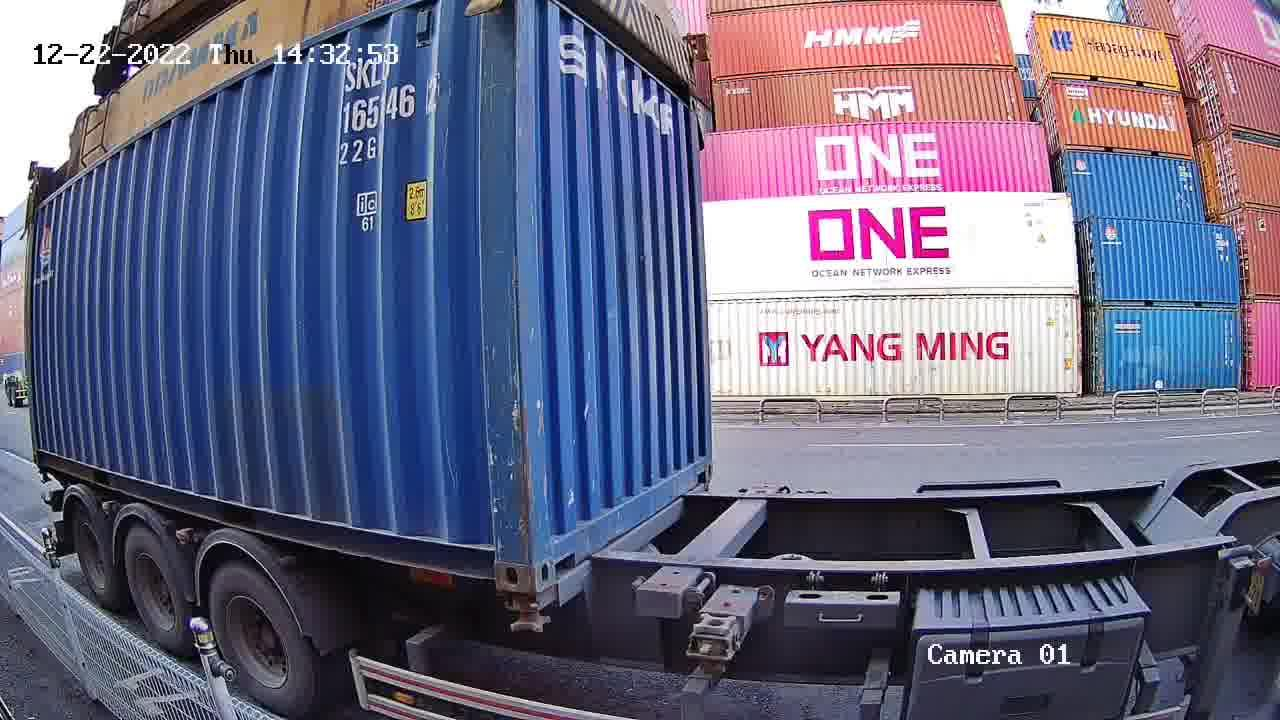Chassis: (510, 482, 710, 612)
Cone: (500, 586, 557, 636)
Hole_L: (531, 519, 575, 594)
Hole_R: (466, 523, 538, 595), (679, 434, 715, 488)
Tire: (207, 567, 307, 710), (122, 529, 188, 643), (70, 508, 112, 595)
